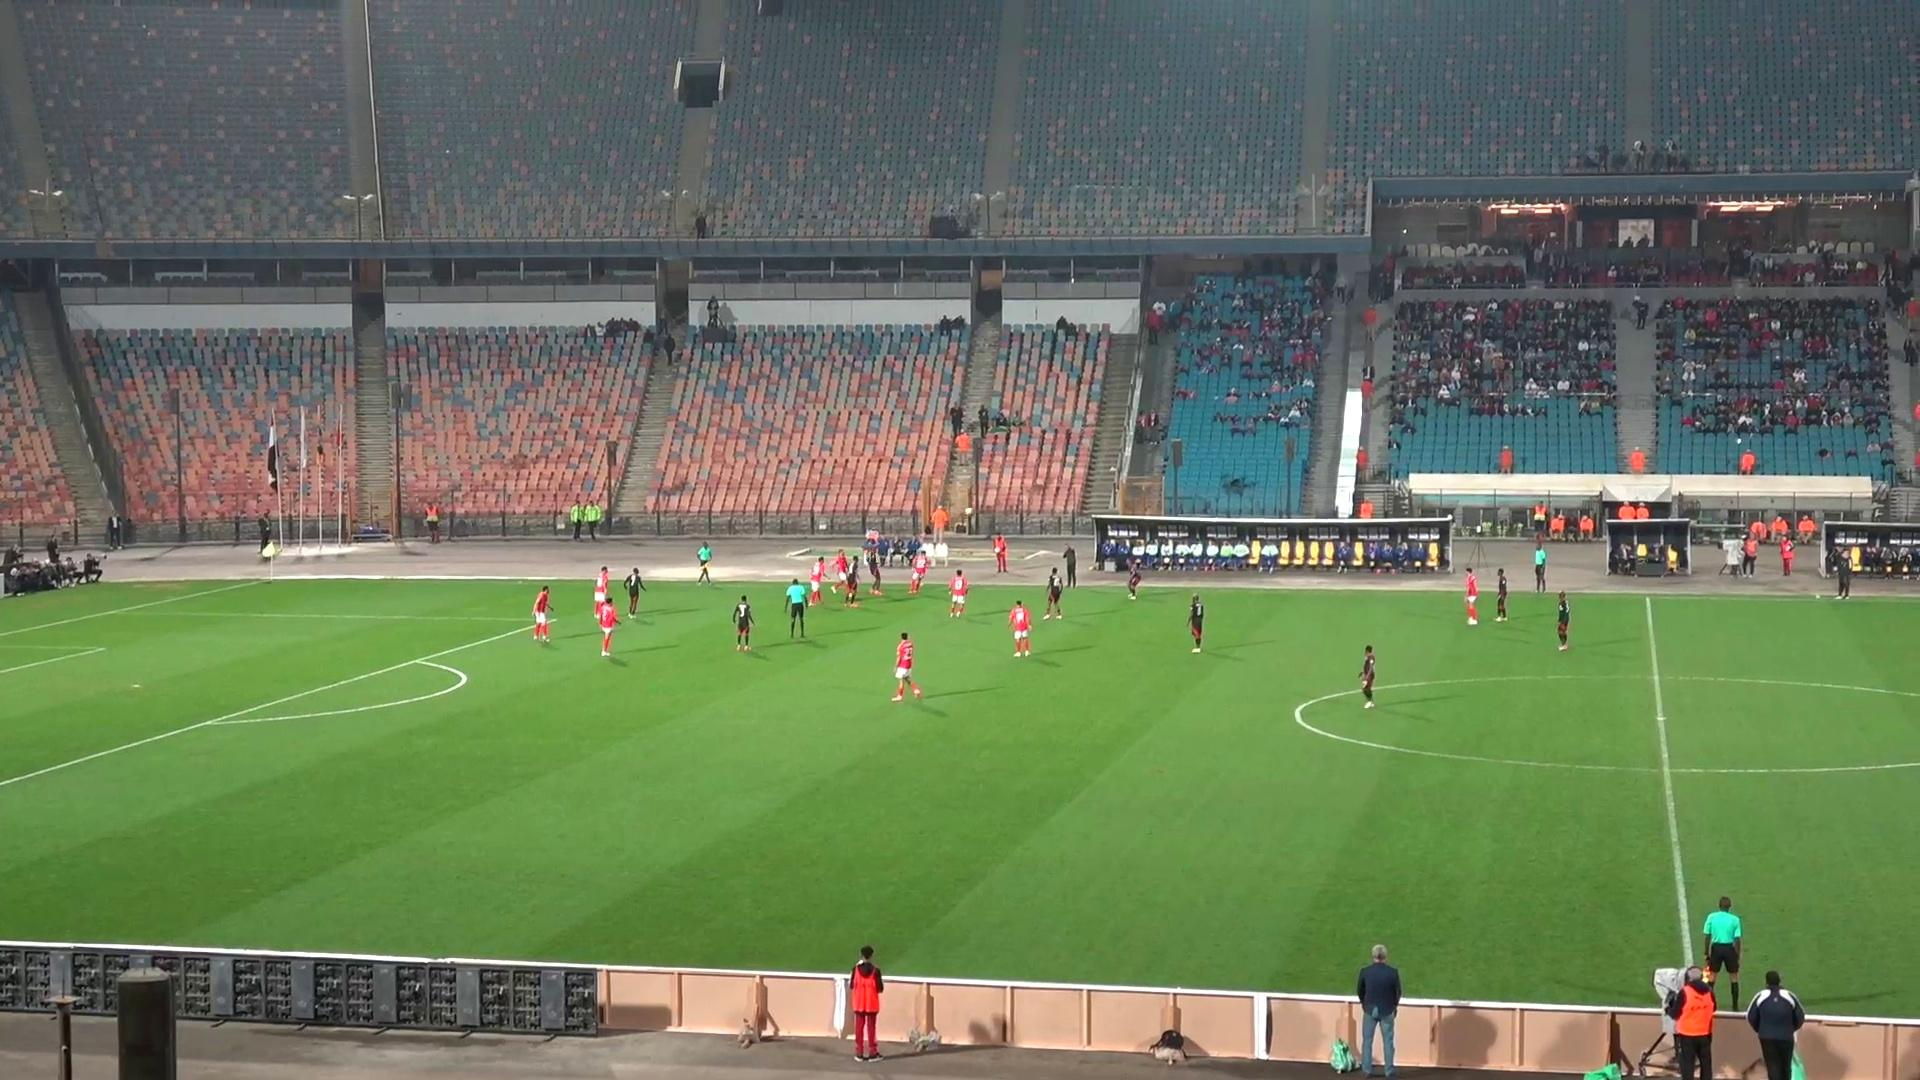Refree: (1704, 895, 1741, 1009), (1524, 541, 1573, 592), (783, 578, 814, 638), (694, 541, 713, 584)
Team1: (891, 633, 923, 702), (808, 555, 841, 604), (593, 593, 618, 657), (909, 543, 936, 595), (1007, 601, 1031, 655), (533, 585, 554, 642), (948, 570, 971, 617), (593, 566, 612, 617), (1464, 567, 1480, 625)
Team2: (731, 596, 756, 651), (1044, 568, 1071, 618), (836, 554, 860, 607), (622, 567, 646, 618), (1188, 592, 1205, 653), (1360, 644, 1375, 708), (862, 541, 881, 596), (1494, 568, 1510, 622), (1556, 592, 1571, 650), (1125, 555, 1143, 599)
